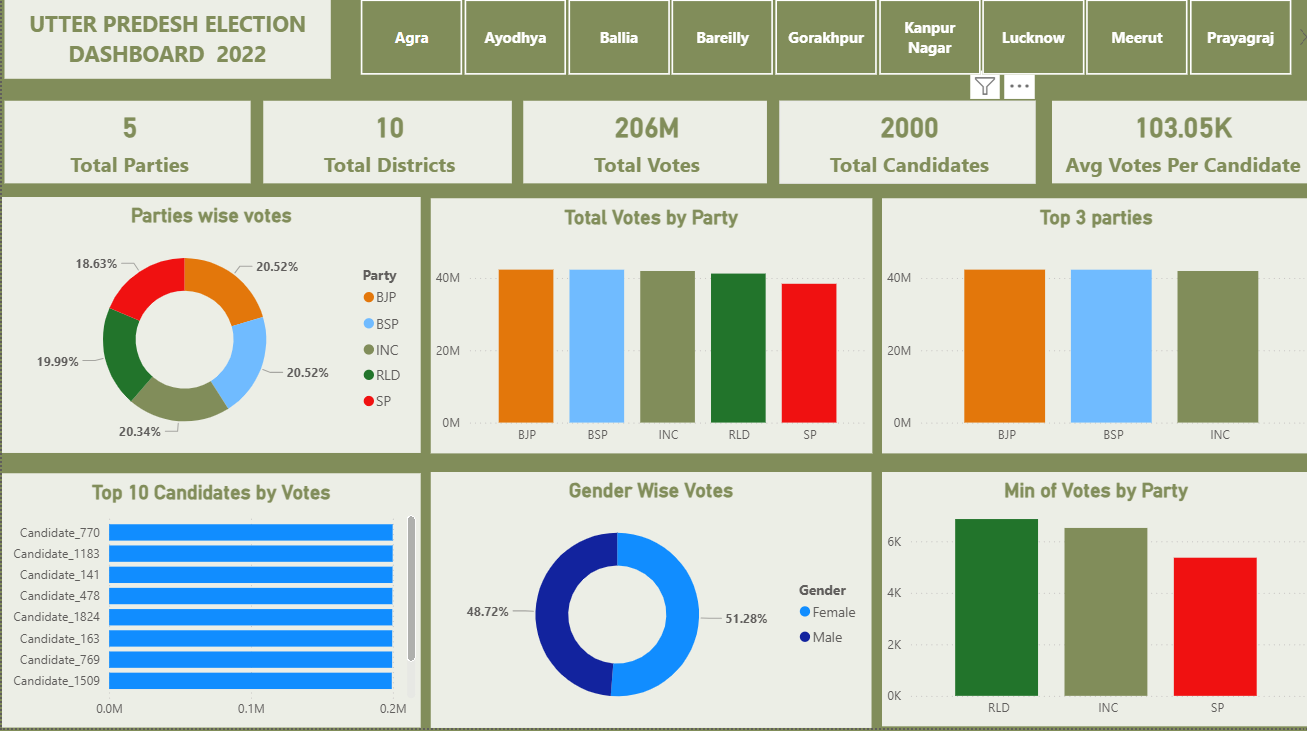

The dashboard page shown, as its layout file describes it:
{"tool":"powerbi","page":{"name":"Page 1","canvas":[1280,720],"ordinal":0},"visuals":[{"type":"textbox","box":[2.4,4.9,319.2,80],"z":0},{"type":"card","fields":{"Values":["UP_Election_Data.Total Votes"]},"box":[509.9,106.4,238.5,80.7],"z":1000},{"type":"card","fields":{"Values":["UP_Election_Data.Total Parties"]},"box":[2.4,106.4,240.9,80.7],"z":2000},{"type":"card","fields":{"Values":["UP_Election_Data.Total Districts"]},"box":[255.6,106.4,243.3,80.7],"z":3000},{"type":"card","fields":{"Values":["UP_Election_Data.Total Candidates"]},"box":[760.6,106.4,250.7,80.7],"z":4000},{"type":"card","fields":{"Values":["UP_Election_Data.Average Votes per Candidate"]},"box":[1027.2,106.4,253.1,80.7],"z":5000},{"type":"donutChart","title":"Parties wise votes","fields":{"Category":["UP_Election_Data.Party"],"Y":["Sum(UP_Election_Data.Votes)"]},"box":[0,200.5,409.6,250.7],"z":6000},{"type":"columnChart","fields":{"Category":["UP_Election_Data.Party"],"Y":["UP_Election_Data.Total Votes"]},"box":[419.4,201.8,431.7,249.5],"z":7000},{"type":"columnChart","title":"Top 3 parties","fields":{"Category":["UP_Election_Data.Party"],"Y":["Sum(UP_Election_Data.Votes)"]},"box":[860.9,201.8,419.4,249.5],"z":8000},{"type":"slicer","fields":{"Values":["UP_Election_Data.District"]},"box":[321.6,4.9,958.7,78.3],"z":9000},{"type":"barChart","title":"Top 10 Candidates by Votes","fields":{"Category":["UP_Election_Data.Candidate"],"Y":["Sum(UP_Election_Data.Votes)"]},"box":[0,470.7,409.5,249],"z":10000},{"type":"donutChart","title":"Gender Wise Votes","fields":{"Category":["UP_Election_Data.Gender"],"Y":["Sum(UP_Election_Data.Votes)"]},"box":[419,469.4,431.3,250.3],"z":11000},{"type":"columnChart","fields":{"Category":["UP_Election_Data.Party"],"Y":["Min(UP_Election_Data.Votes)"]},"box":[861.2,469.4,419,249],"z":12000}]}

Visuals, with their boxes in screenshot pixels (x1, y1, x2, y2), scaled from the page's 1280x720 canvas onto the 1307x731 screenshot:
textbox: (2,5,328,86)
card - UP_Election_Data.Total Votes: (521,108,764,190)
card - UP_Election_Data.Total Parties: (2,108,248,190)
card - UP_Election_Data.Total Districts: (261,108,509,190)
card - UP_Election_Data.Total Candidates: (777,108,1033,190)
card - UP_Election_Data.Average Votes per Candidate: (1049,108,1306,190)
"Parties wise votes" donutChart: (0,204,418,458)
columnChart - UP_Election_Data.Party x UP_Election_Data.Total Votes: (428,205,869,458)
"Top 3 parties" columnChart: (879,205,1306,458)
slicer - UP_Election_Data.District: (328,5,1306,84)
"Top 10 Candidates by Votes" barChart: (0,478,418,730)
"Gender Wise Votes" donutChart: (428,477,868,730)
columnChart - UP_Election_Data.Party x Min(UP_Election_Data.Votes): (879,477,1306,729)
